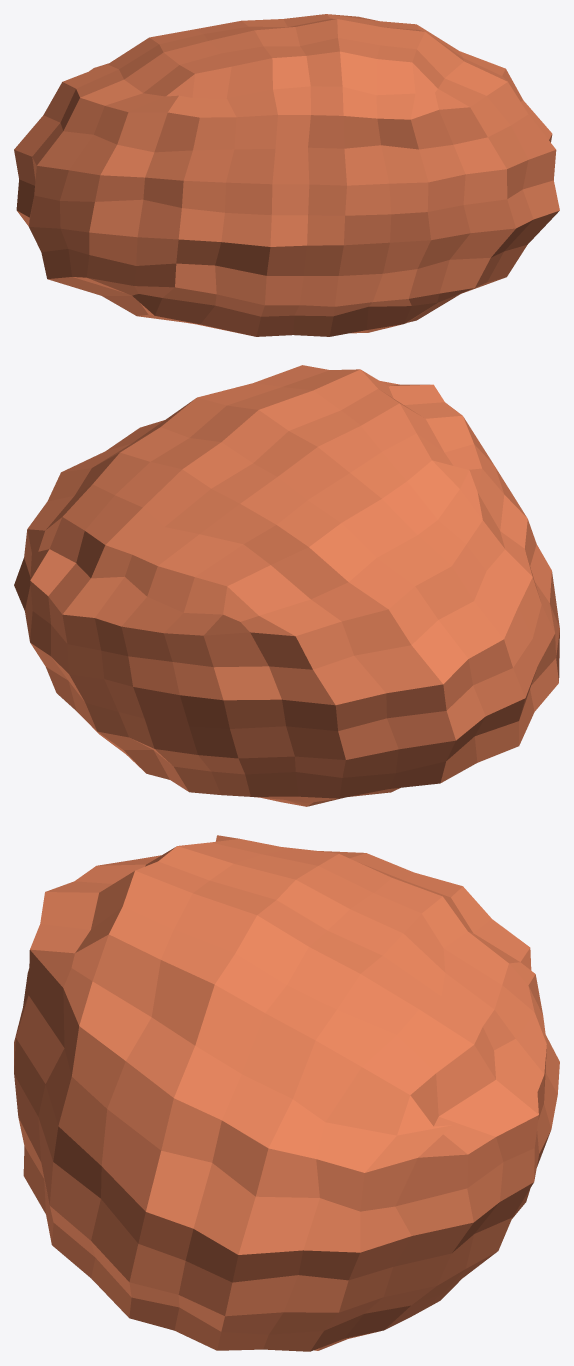
The model's file is bigStone.fbx.
The picture shows the model from 3 angles, top to bottom: view 1: azimuth 30°, elevation 25°; view 2: azimuth 150°, elevation 25°; view 3: azimuth 270°, elevation 25°; orthographic projection. The views are drawn at different scales.
Visible parts, largest first — view 1: Cube.007; view 2: Cube.007; view 3: Cube.007.
Boxes of the visible parts, x1,y1,x2,y2 form: Cube.007: (14, 14, 559, 336); Cube.007: (14, 365, 559, 806); Cube.007: (14, 835, 559, 1351).
Bounding box in the file's own units: 1138 × 714 × 860.
